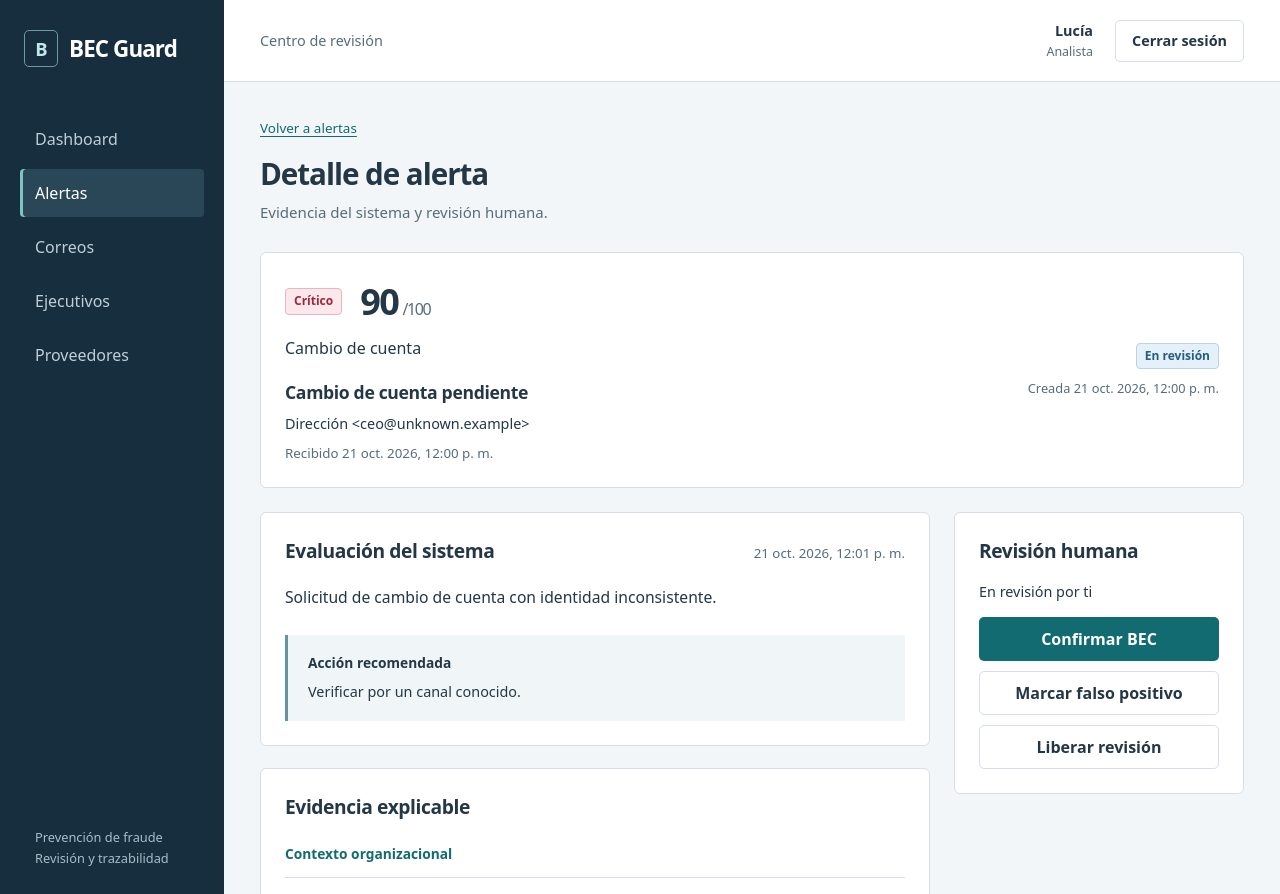
Test case: release returns to OPEN
Click the button "Liberar revisión" at coordinates (1099, 747), box x1=979 y1=725 x2=1219 y2=769
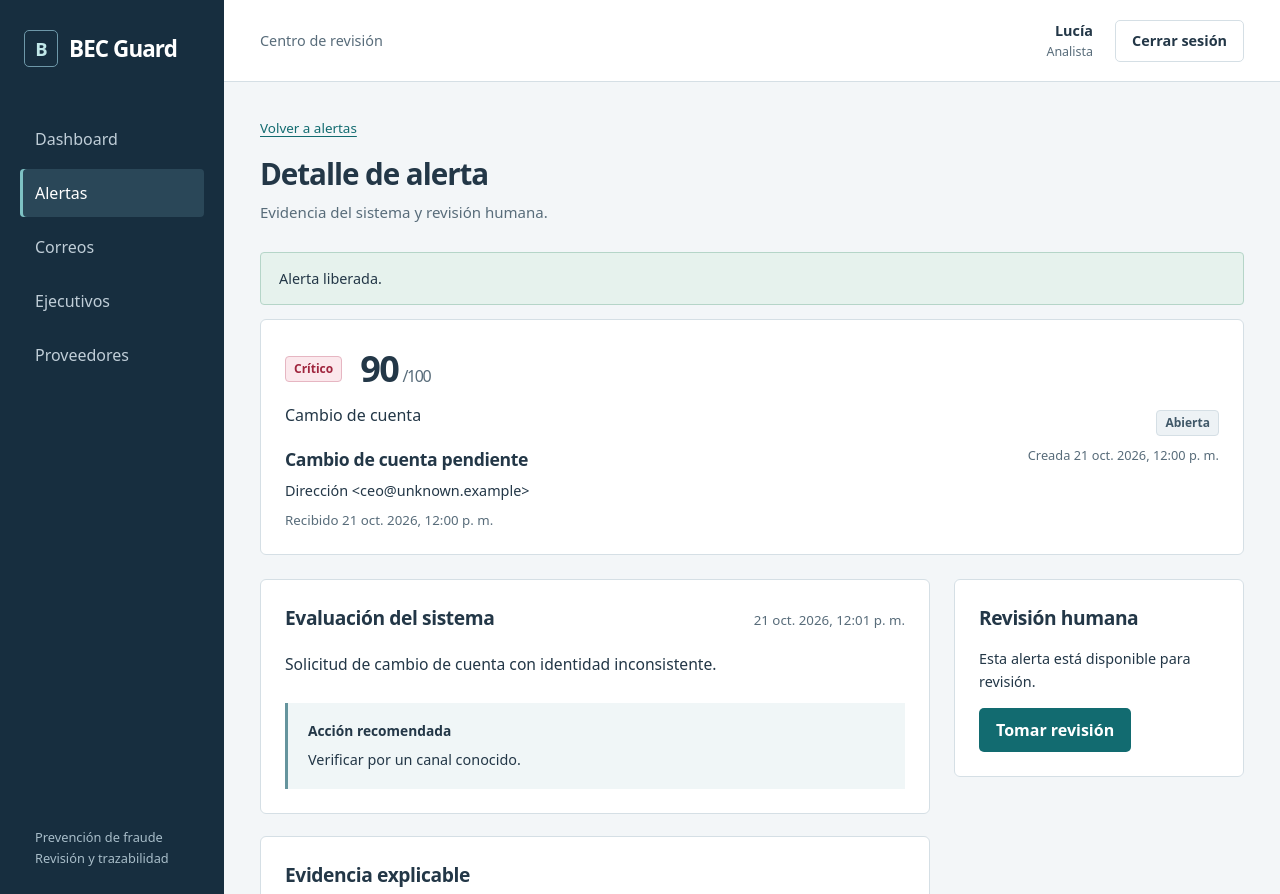
Check: the button "Tomar revisión" is shown, box x1=979 y1=708 x2=1131 y2=752
